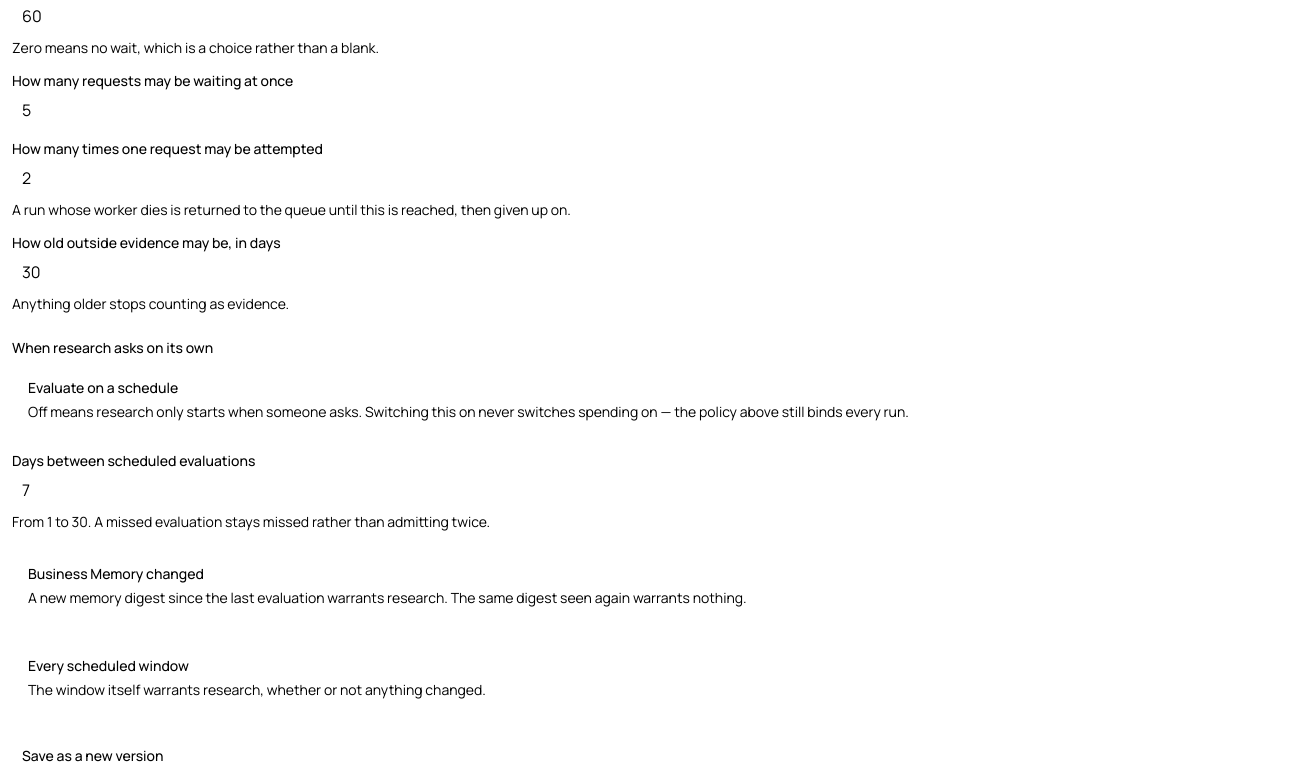
it: setting what research may spend › confirms a save, and says it takes effect now
This screenshot has width=1304, height=781.
(page scrolled)
Click the button "Save as a new version": click(93, 756) [12,740,173,772]
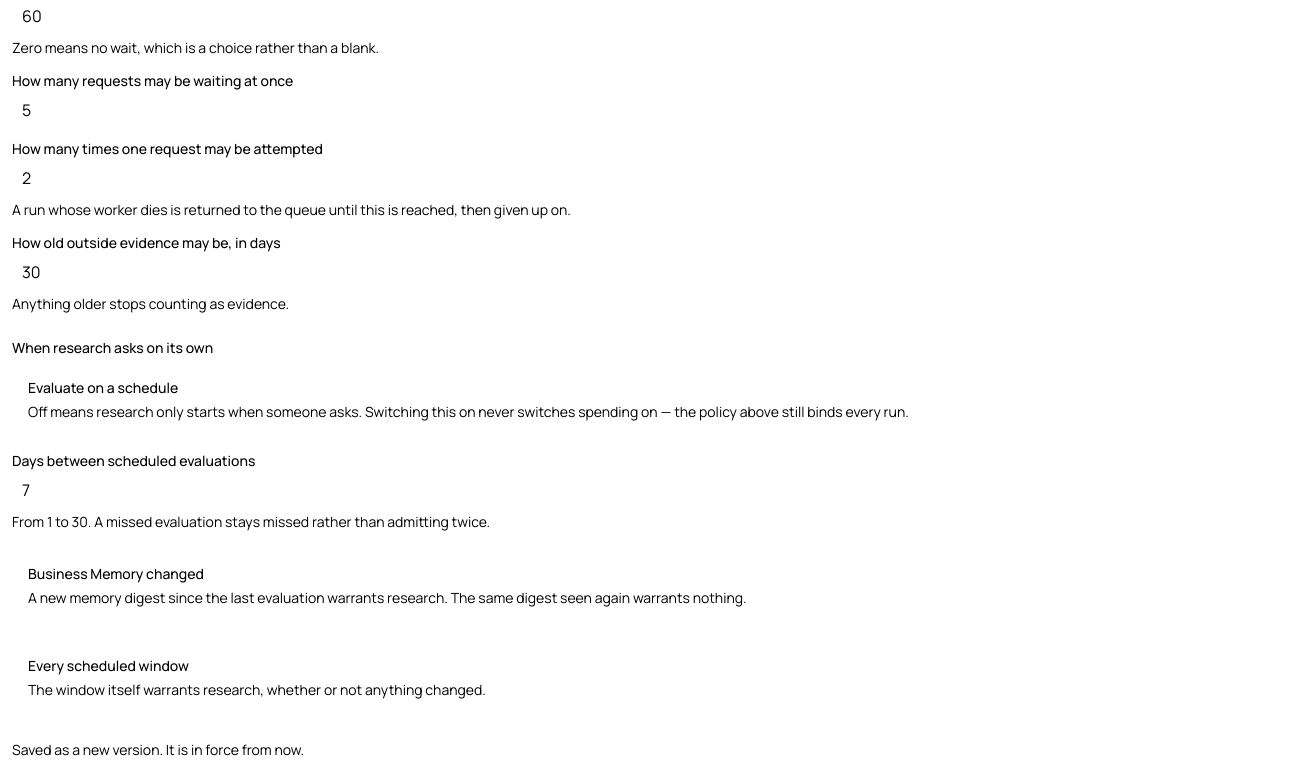
expect the message shows "in force from now": met, box [12,740,304,759]
